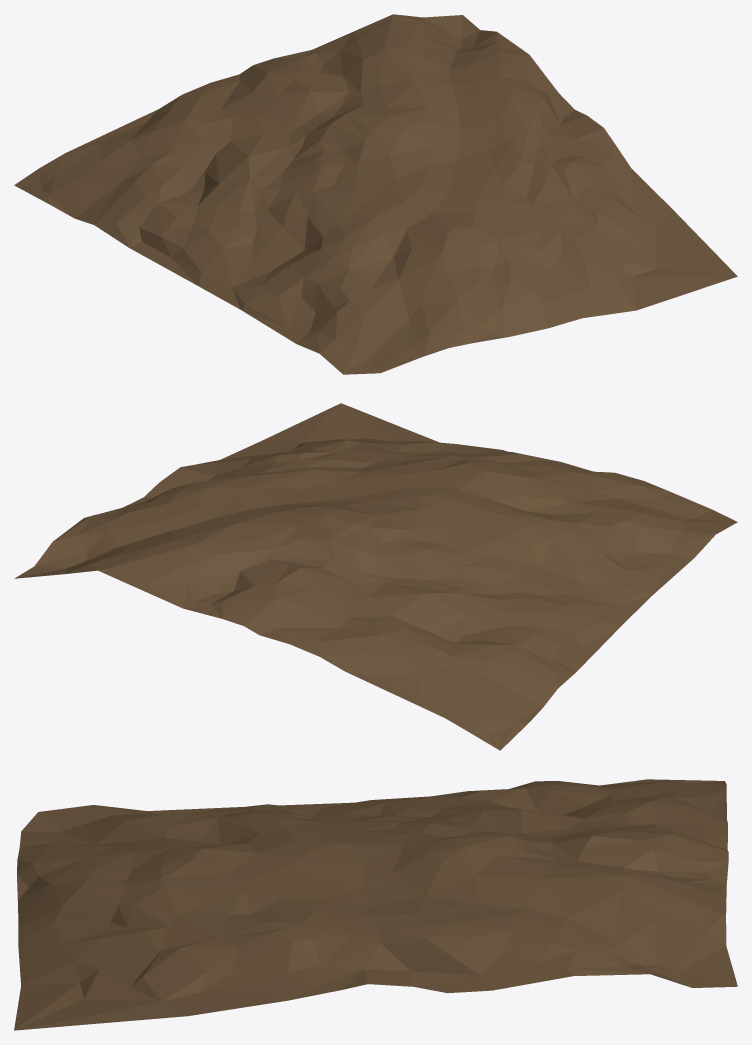
Rendered from SM_terrain_b_01.fbx.
The picture shows the model from 3 angles, top to bottom: view 1: azimuth 30°, elevation 25°; view 2: azimuth 150°, elevation 25°; view 3: azimuth 270°, elevation 25°; orthographic projection. The views are drawn at different scales.
Parts seen in each view (by area): view 1: terrain_b_01; view 2: terrain_b_01; view 3: terrain_b_01.
Part boxes in pixels (x1,y1,x2,y2): terrain_b_01: [14, 14, 737, 374]; terrain_b_01: [14, 403, 737, 750]; terrain_b_01: [14, 779, 737, 1030].
Bounding box in the file's own units: 1888 × 338 × 2102.
